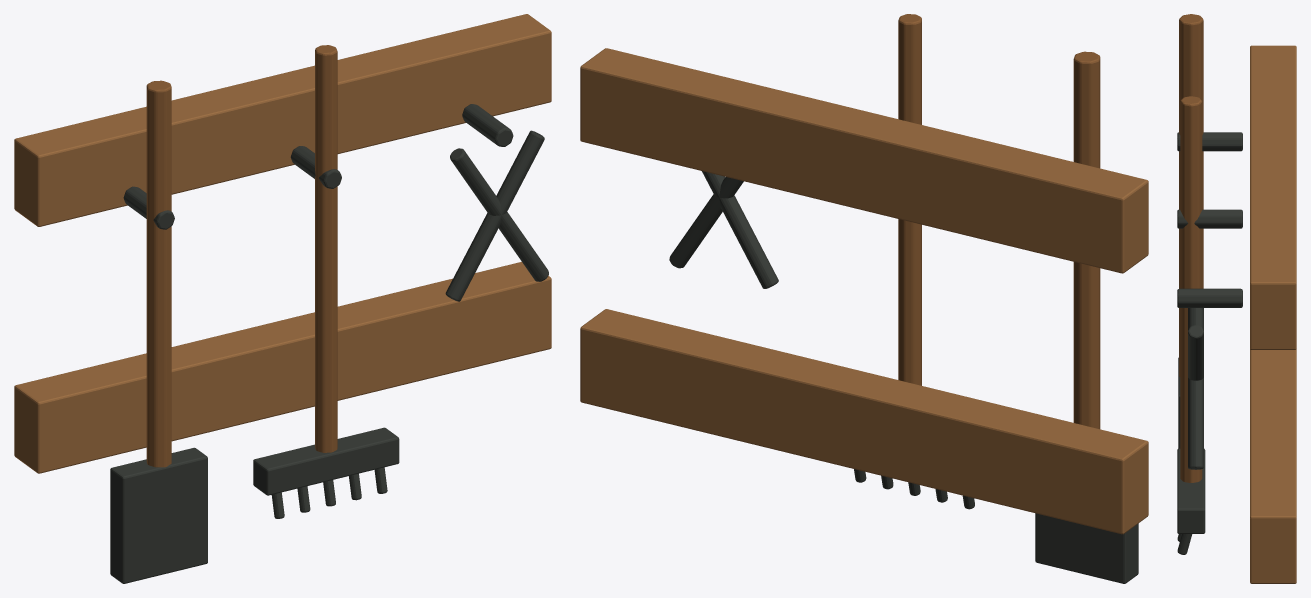
File: wall_tool_rack.glb
The picture shows the model from 3 angles, left to right: view 1: azimuth 30°, elevation 25°; view 2: azimuth 150°, elevation 25°; view 3: azimuth 270°, elevation 25°; orthographic projection. The views are drawn at different scales.
Parts seen in each view (by area): view 1: wall_tool_rack; view 2: wall_tool_rack; view 3: wall_tool_rack.
Boxes of the visible parts, x1=… form: wall_tool_rack: x1=14, y1=14, x2=551, y2=583; wall_tool_rack: x1=580, y1=14, x2=1148, y2=583; wall_tool_rack: x1=1177, y1=14, x2=1296, y2=583.
Bounding box in the file's own units: 1.2 × 1.08 × 0.255.
